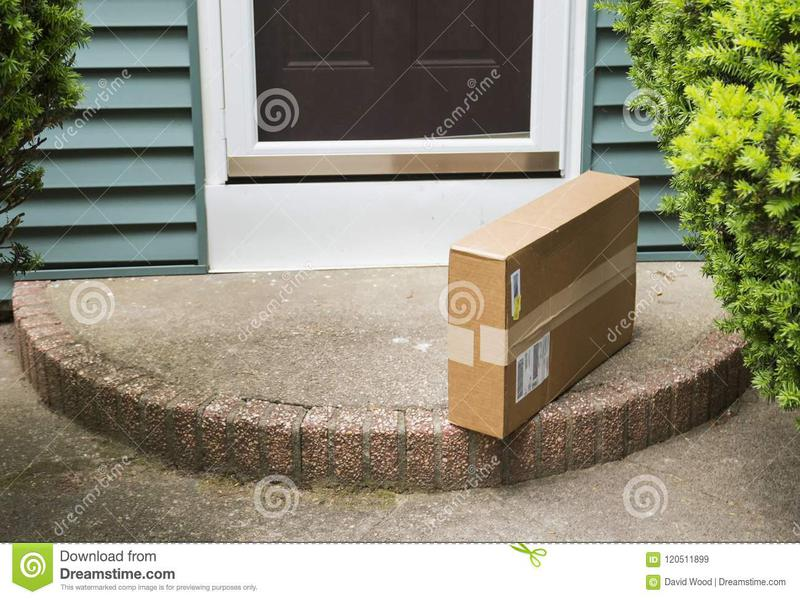package: (431, 162, 649, 448)
